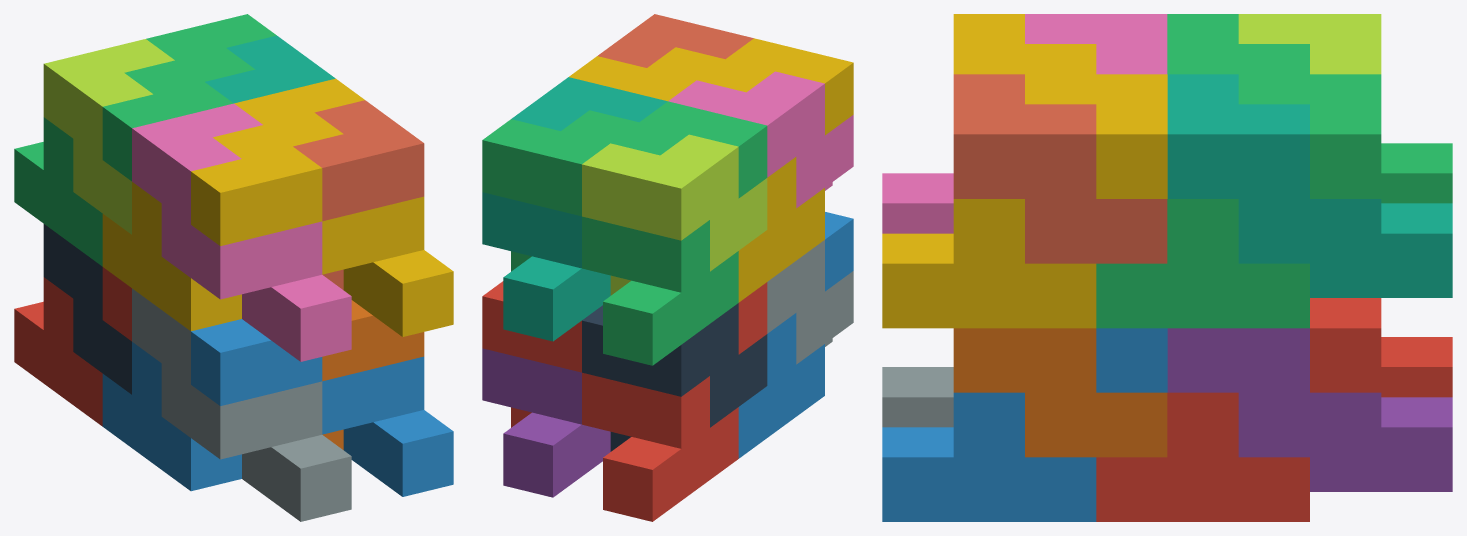
Rendered from tiling.obj.
3 views of the same model, side by side, from view 1: azimuth 30°, elevation 25°; view 2: azimuth 150°, elevation 25°; view 3: azimuth 270°, elevation 25° (orthographic). The views are drawn at different scales.
Parts seen in each view (by area): view 1: copy_2_domain_4, copy_1_domain_4, copy_2_domain_2, copy_2_domain_8, copy_1_domain_2, copy_1_domain_3, copy_2_domain_6, copy_2_domain_3, copy_1_domain_8, copy_1_domain_1, copy_2_domain_1, copy_1_domain_7 (+2 smaller); view 2: copy_1_domain_3, copy_1_domain_1, copy_1_domain_7, copy_2_domain_3, copy_1_domain_4, copy_1_domain_5, copy_2_domain_4, copy_2_domain_1, copy_2_domain_7, copy_1_domain_2, copy_2_domain_2, copy_2_domain_8 (+2 smaller); view 3: copy_1_domain_7, copy_2_domain_8, copy_2_domain_7, copy_1_domain_5, copy_2_domain_6, copy_2_domain_5, copy_1_domain_8, copy_1_domain_6, copy_1_domain_3, copy_2_domain_4, copy_1_domain_4, copy_2_domain_3 (+2 smaller).
Boxes of the visible parts, x1,y1,x2,y2 form: copy_2_domain_4: (132, 103, 351, 361); copy_1_domain_4: (102, 125, 322, 331); copy_2_domain_2: (132, 288, 351, 521); copy_2_domain_8: (234, 78, 453, 336); copy_1_domain_2: (102, 319, 322, 491); copy_1_domain_3: (14, 60, 233, 266); copy_2_domain_6: (322, 356, 453, 496); copy_2_domain_3: (43, 39, 174, 234); copy_1_domain_8: (293, 100, 424, 289); copy_1_domain_1: (14, 267, 131, 426); copy_2_domain_1: (43, 224, 131, 394); copy_1_domain_7: (205, 35, 335, 103); copy_1_domain_3: (582, 101, 767, 365); copy_1_domain_1: (582, 282, 767, 521); copy_1_domain_7: (482, 77, 667, 341); copy_2_domain_3: (582, 134, 767, 295); copy_1_domain_4: (697, 38, 853, 302); copy_1_domain_5: (482, 348, 610, 497); copy_2_domain_4: (668, 71, 853, 208); copy_2_domain_1: (582, 303, 767, 451); copy_2_domain_7: (482, 110, 638, 271); copy_1_domain_2: (738, 212, 853, 458); copy_2_domain_2: (767, 240, 853, 364); copy_2_domain_8: (569, 47, 724, 101); copy_1_domain_7: (1167, 74, 1452, 297); copy_2_domain_8: (882, 74, 1167, 328); copy_2_domain_7: (1096, 74, 1381, 328); copy_1_domain_5: (1167, 328, 1452, 491); copy_2_domain_6: (882, 328, 1167, 521); copy_2_domain_5: (1096, 298, 1381, 521); copy_1_domain_8: (953, 74, 1167, 263); copy_1_domain_6: (953, 328, 1167, 457); copy_1_domain_3: (1167, 14, 1452, 203); copy_2_domain_4: (882, 14, 1167, 233); copy_1_domain_4: (953, 14, 1096, 74); copy_2_domain_3: (1238, 14, 1381, 74).
Bounding box in the file's own units: 4 × 6 × 8.
